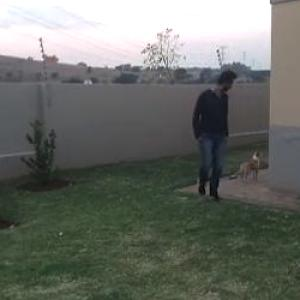follow: (194, 62, 236, 208)
